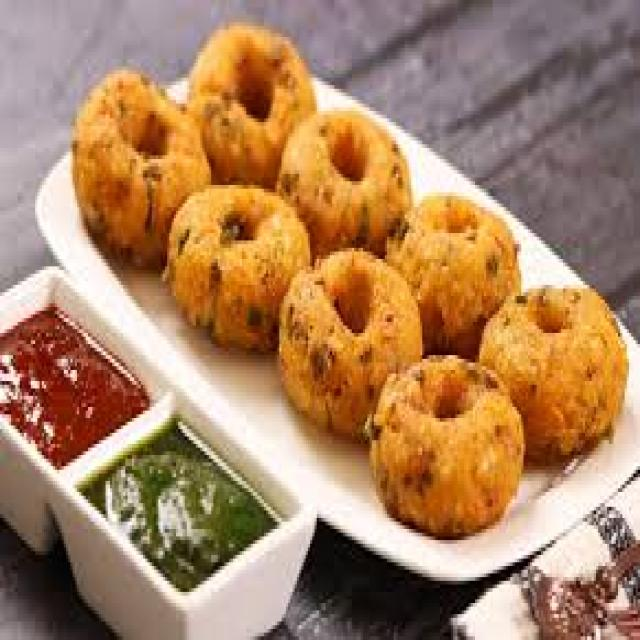MEDU VADA: (369, 355, 521, 533), (277, 252, 422, 437), (75, 70, 209, 263), (479, 289, 627, 459), (165, 189, 310, 348), (385, 192, 519, 355), (187, 22, 315, 185), (277, 111, 409, 252)
